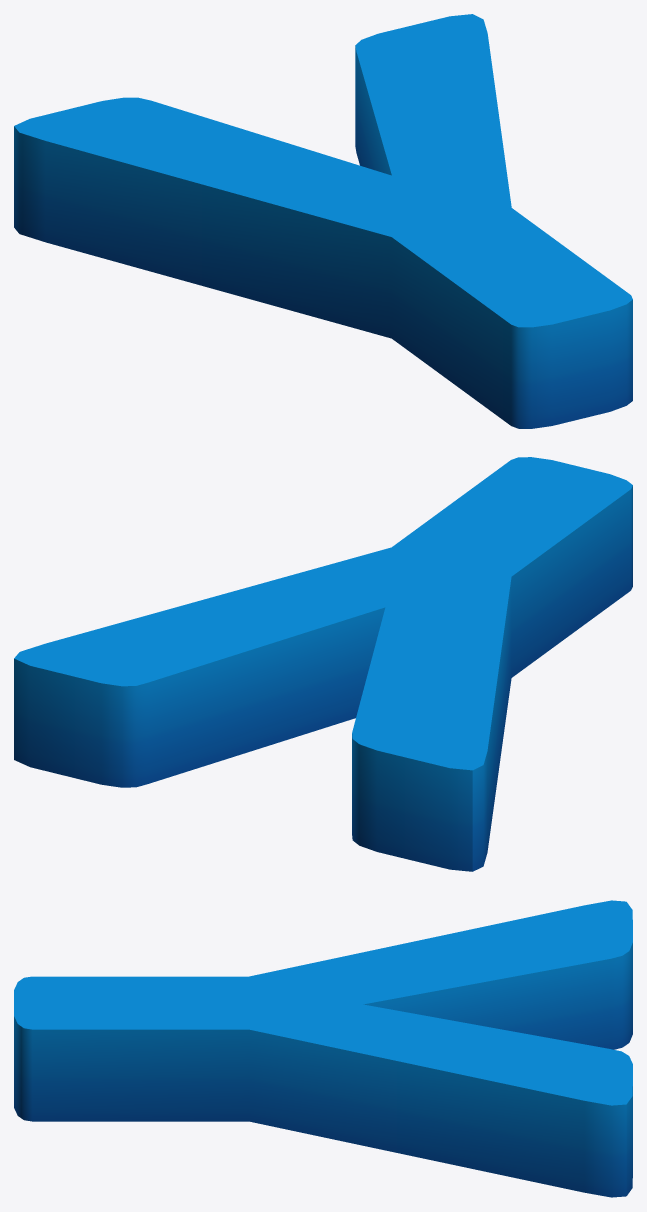
The model's file is letter_Y.fbx.
The picture shows the model from 3 angles, top to bottom: view 1: azimuth 30°, elevation 25°; view 2: azimuth 150°, elevation 25°; view 3: azimuth 270°, elevation 25°; orthographic projection. The views are drawn at different scales.
Visible parts, largest first — view 1: letter_Y; view 2: letter_Y; view 3: letter_Y.
Boxes of the visible parts, x1,y1,x2,y2 form: letter_Y: (14, 14, 632, 428); letter_Y: (14, 457, 632, 871); letter_Y: (14, 900, 632, 1197).
Size of the model in its own units: 17.95 by 3.75 by 22.88.
